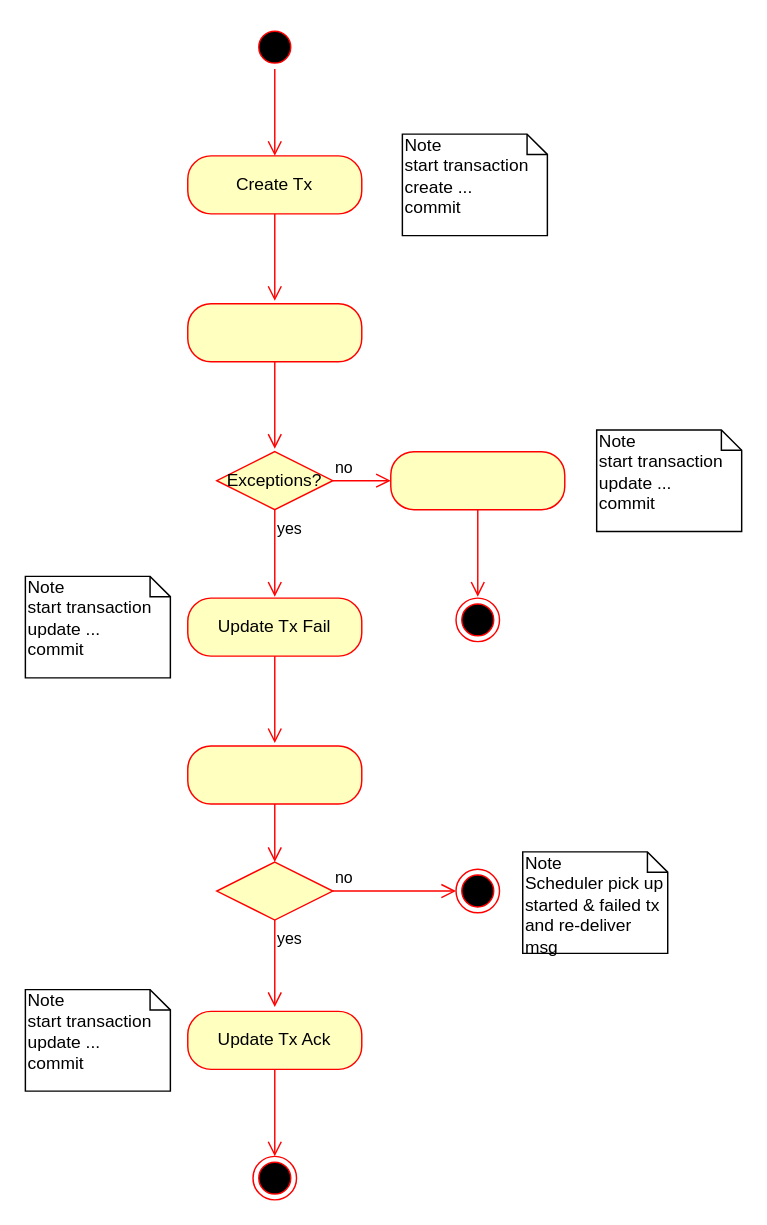
Image size: 767x1225. Some labels were removed from this diagram. The shapes that lost their labels are listed below. From the top down, each one's centre as x and y in pixels, then its label:
At (x=274, y=332): "Execute tx".
At (x=477, y=480): "Update tx success".
At (x=274, y=774): "Send rollback msg to MQ".
At (x=274, y=890): "Delivered?".
